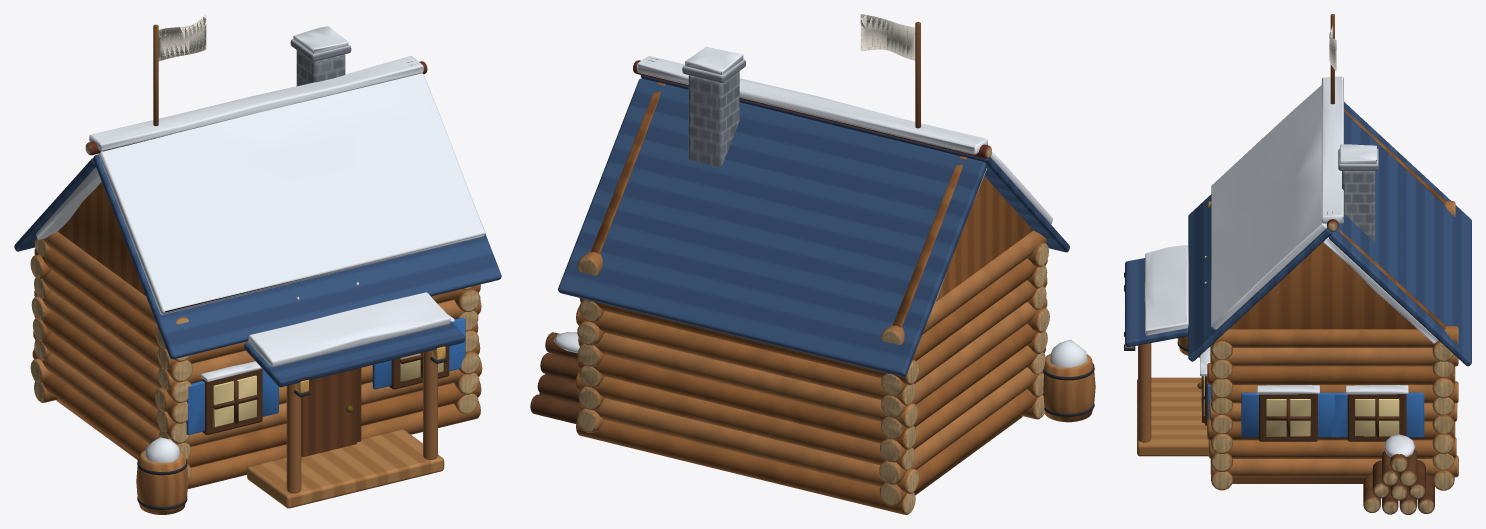
File: chief_lodge.glb
3 views of the same model, side by side, from view 1: azimuth 30°, elevation 25°; view 2: azimuth 150°, elevation 25°; view 3: azimuth 270°, elevation 25° (orthographic). The views are drawn at different scales.
Parts seen in each view (by area): view 1: antlers; view 2: antlers; view 3: antlers.
Boxes of the visible parts, x1,y1,x2,y2 form: antlers: [14, 14, 501, 514]; antlers: [530, 14, 1095, 514]; antlers: [1124, 14, 1471, 514].
Bounding box in the file's own units: 5.65 × 5.45 × 4.71.
1 material, 1 textured.
